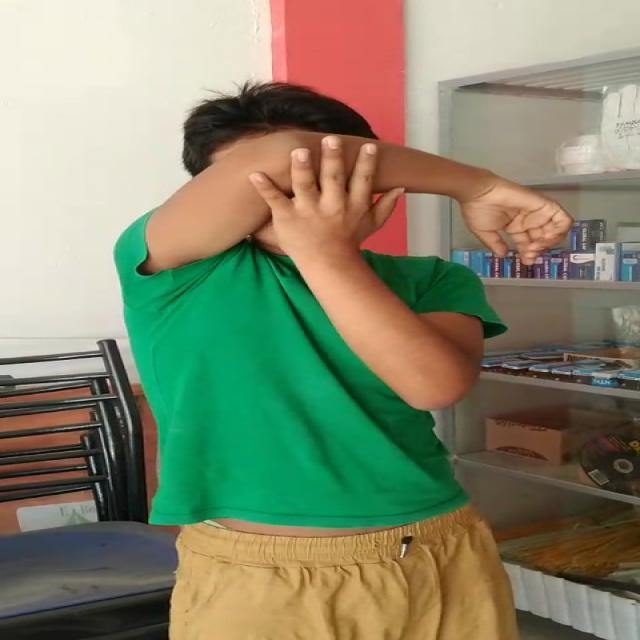7_mano_rostro: (187, 129, 406, 298)
